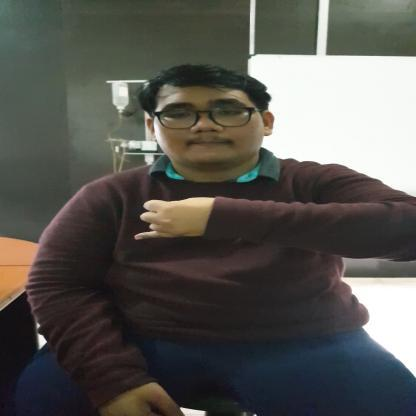J: (133, 196, 217, 241)
